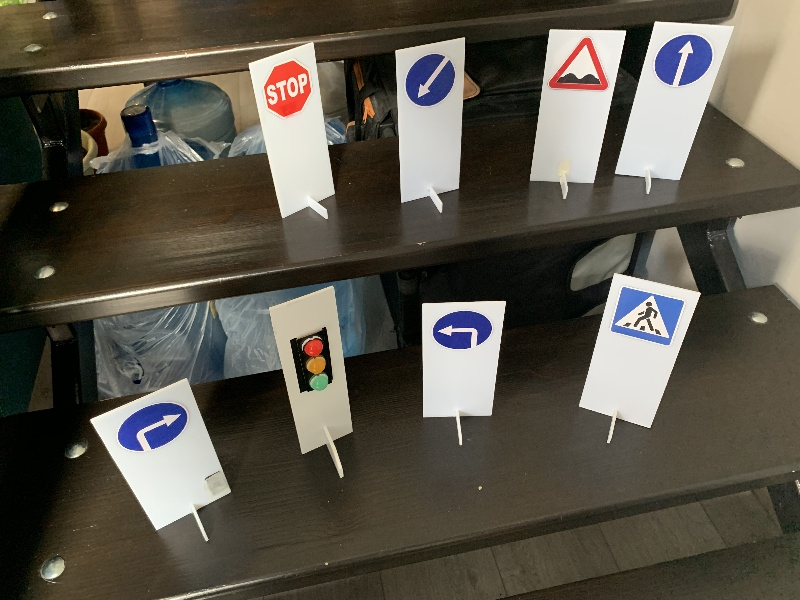Left: (431, 307, 492, 354)
Nerov: (550, 34, 611, 94)
Right: (117, 401, 188, 454)
Stop: (264, 58, 310, 120)
forw: (654, 31, 713, 85)
pesh: (608, 286, 683, 347)
prep: (404, 53, 455, 107)
